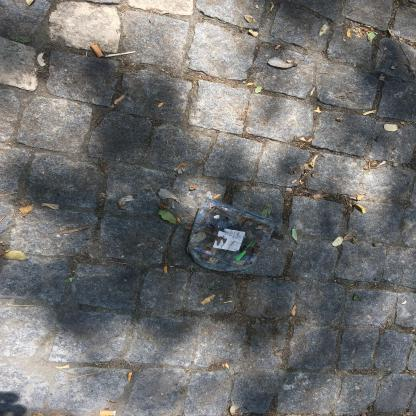plastik: (187, 197, 276, 273)
